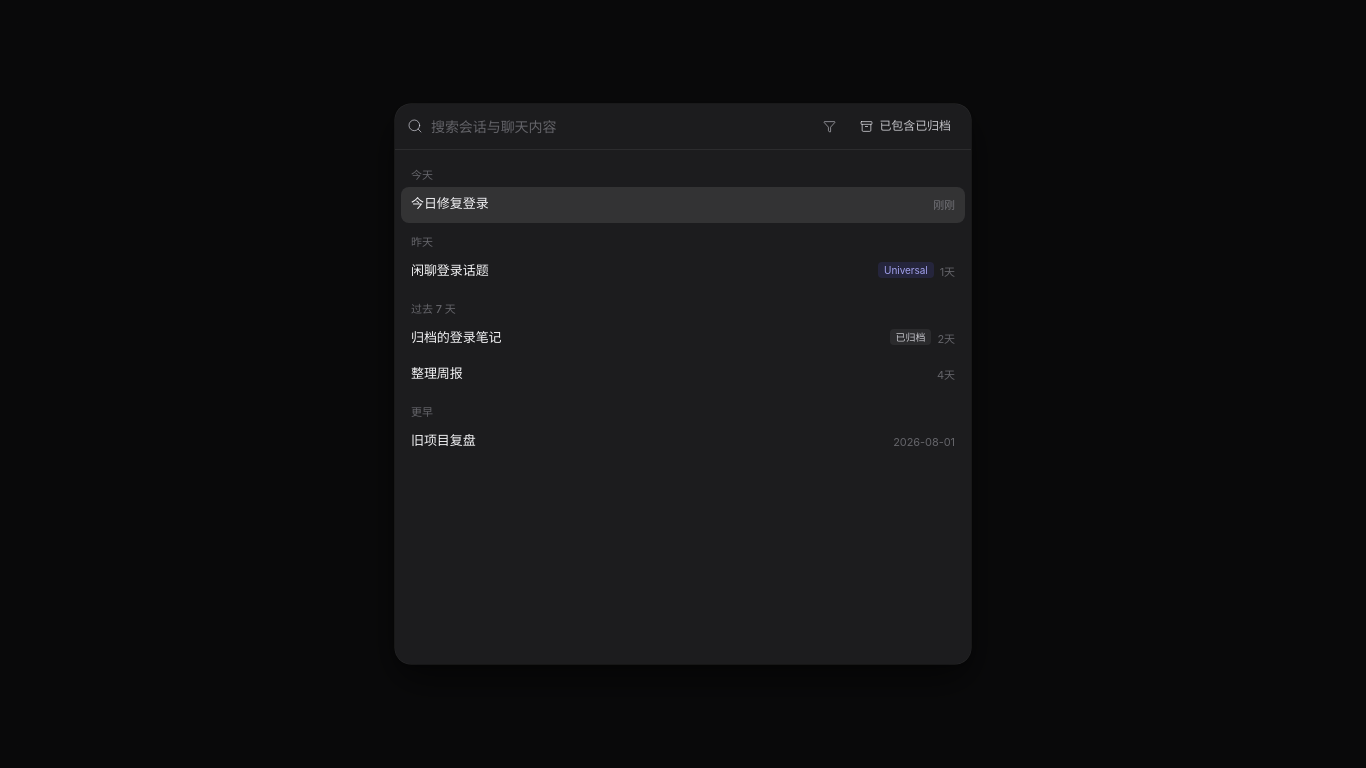
Scenario: filter funnel popover › filters the recent list and text search when a filter is applied, showing badge and clear button
Step 1. Click the button named "筛选" → (830, 126), box x1=815 y1=116 x2=844 y2=137
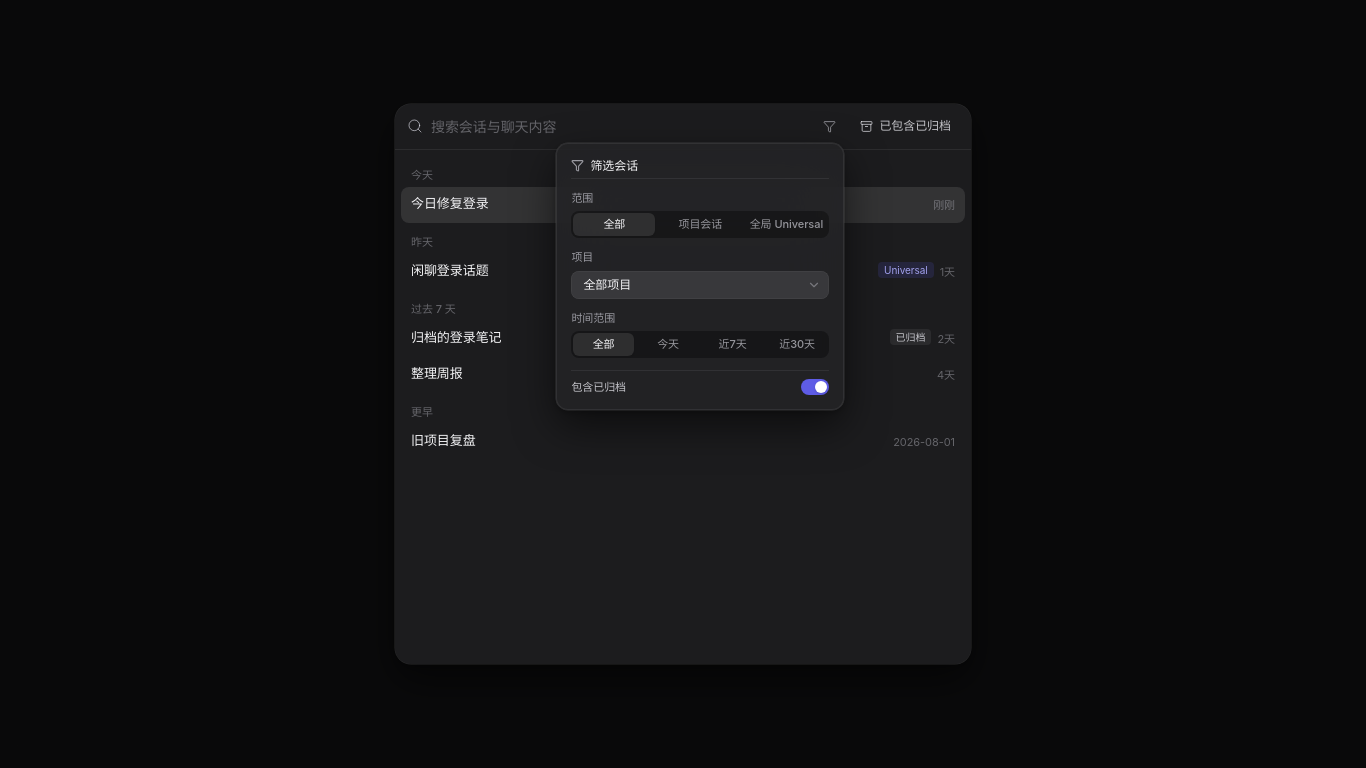
Step 2. Click the button "今天" → (668, 345), box x1=638 y1=333 x2=698 y2=356
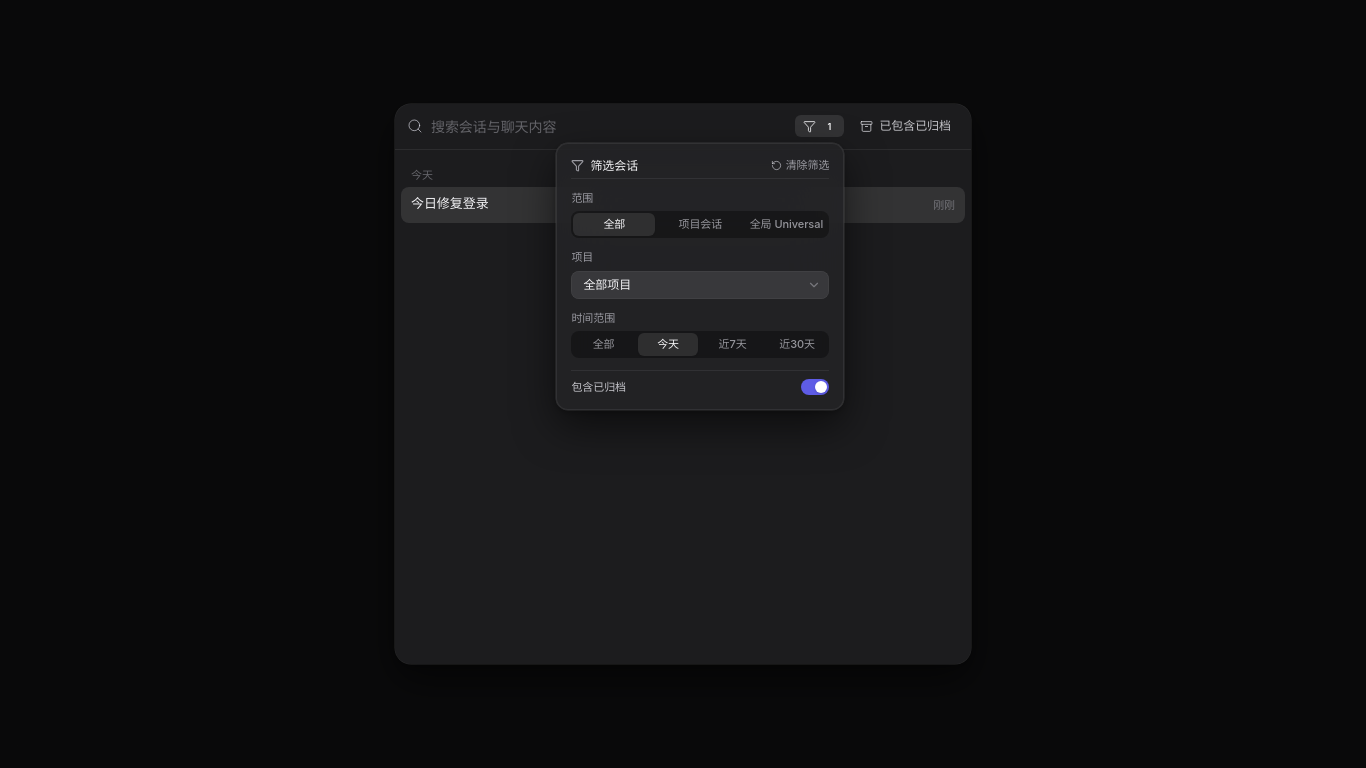
Expected: the button "清除筛选" is shown, x1=771 y1=158 x2=829 y2=173
Expected: the option "整理周报" is gone
Expected: the option "旧项目复盘" is gone
Step 3. Type "登录" into the dropdown labelled "搜索会话" → (609, 126), box x1=431 y1=117 x2=787 y2=136
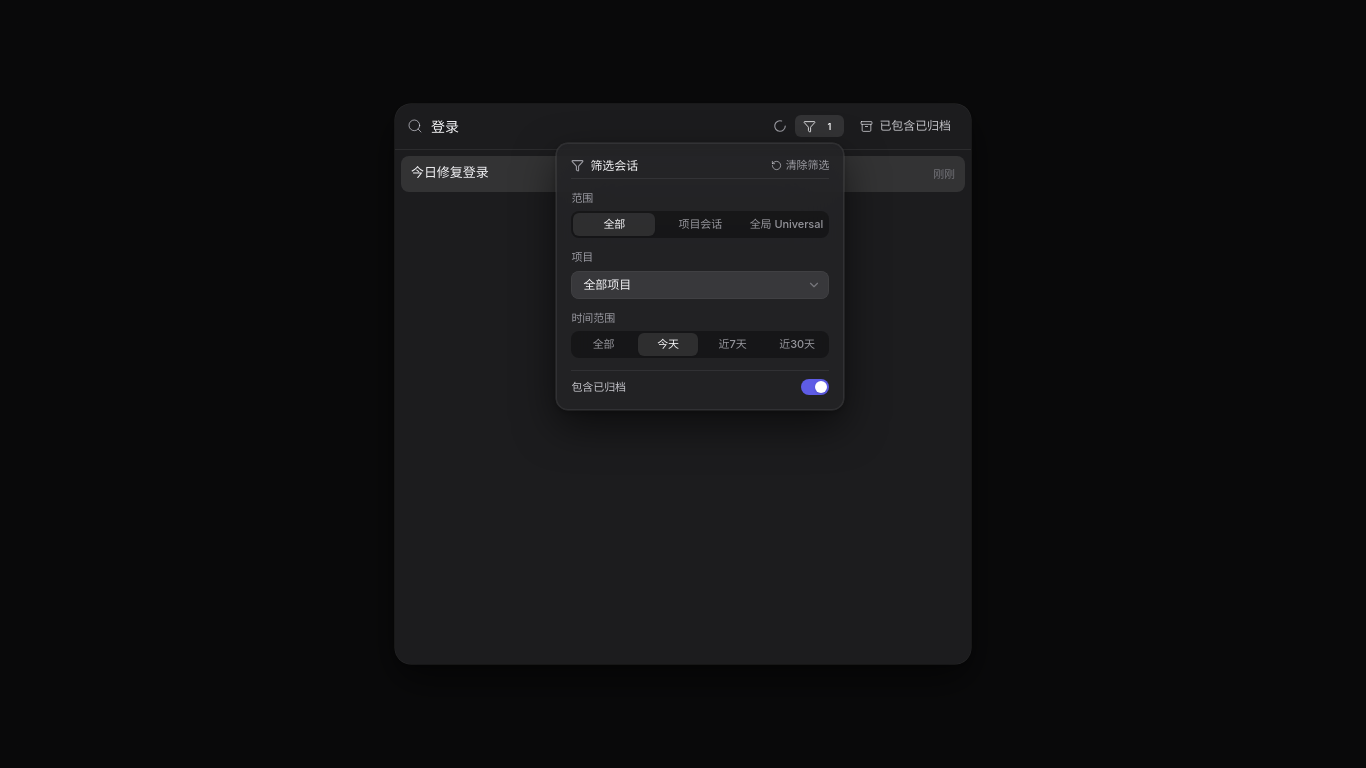
Expected: the text "今日修复登录" is shown, x1=411 y1=164 x2=489 y2=180
Expected: the option "归档的登录笔记" is not shown
Step 4. Click the button "清除筛选" → (800, 166), box x1=771 y1=158 x2=829 y2=173
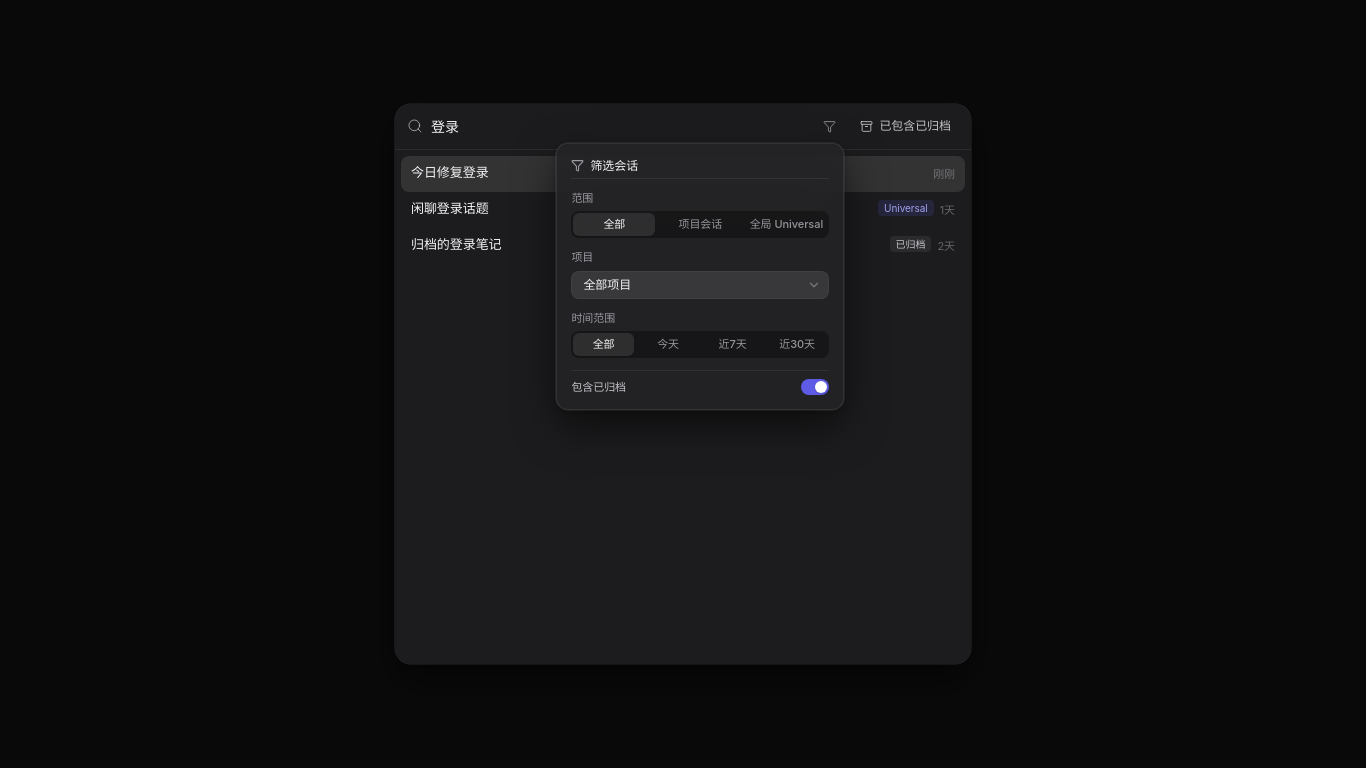
Expected: the text "归档的登录笔记" is shown, x1=411 y1=236 x2=502 y2=252
